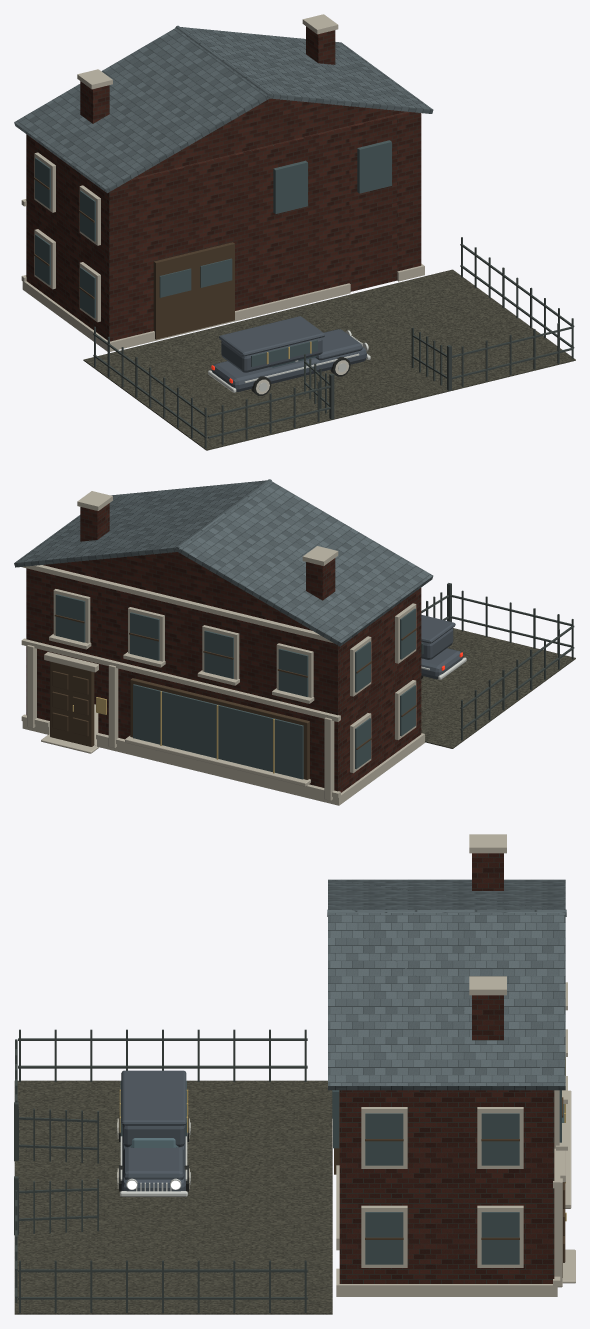
The model's file is undertaker.glb.
3 views of the same model, one above another, from view 1: azimuth 30°, elevation 25°; view 2: azimuth 150°, elevation 25°; view 3: azimuth 270°, elevation 25° (orthographic). The views are drawn at different scales.
Visible parts, largest first — view 1: funeral masonry wing, coach yard, slate roof, empty long window, side fence picket, chassis, funeral foundation wing, long window surround, centre pillar; view 2: funeral masonry wing, slate roof, funeral foundation wing, empty long window, coach yard, funeral entry, side fence picket, long window surround, chassis, display window mullion; view 3: coach yard, slate roof, funeral masonry wing, funeral foundation wing, side fence picket, empty long window, chassis, centre pillar, long window surround.
Part boxes in pixels (x1,y1,x2,y2): funeral masonry wing: (26,26,421,341); coach yard: (83,269,575,450); slate roof: (14,25,433,193); empty long window: (35,140,391,366); side fence picket: (93,237,574,448); chassis: (211,316,366,391); funeral foundation wing: (21,14,424,351); long window surround: (34,177,234,339); centre pillar: (208,330,370,392); funeral masonry wing: (26,503,421,792); slate roof: (14,479,433,646); funeral foundation wing: (21,491,424,805); empty long window: (55,594,423,779); coach yard: (421,628,575,748); funeral entry: (50,661,94,746); side fence picket: (421,583,574,740); long window surround: (54,614,416,779); chassis: (421,614,462,679); display window mullion: (96,691,274,773); coach yard: (14,1080,332,1314); slate roof: (327,879,566,1090); funeral masonry wing: (339,853,554,1283); funeral foundation wing: (336,834,575,1296); side fence picket: (14,1029,307,1312); empty long window: (120,1080,564,1264); chassis: (121,1070,186,1191); centre pillar: (117,1122,190,1196); long window surround: (334,1090,563,1239).
Bounding box in the file's own units: 15.4 × 8.95 × 15.72.
Materials: 15 (3 with a texture image).
